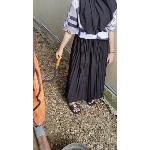Celurit: (41, 52, 65, 84)
